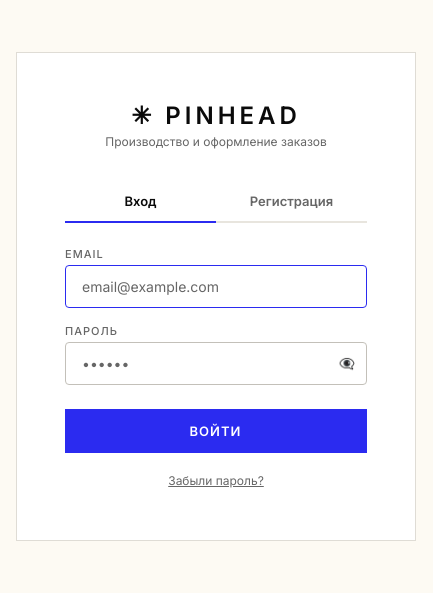
AuthScreen — восстановление пароля › без адреса не шлёт запрос, а просит его ввести
Click the button "Забыли пароль?" at (216, 480), box [164, 468, 268, 492]
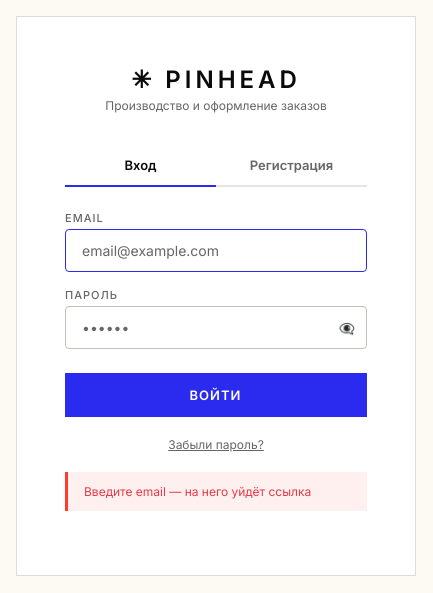
Expected: the text "Введите email — на него уйдёт ссылка" is shown, [65, 472, 367, 511]
